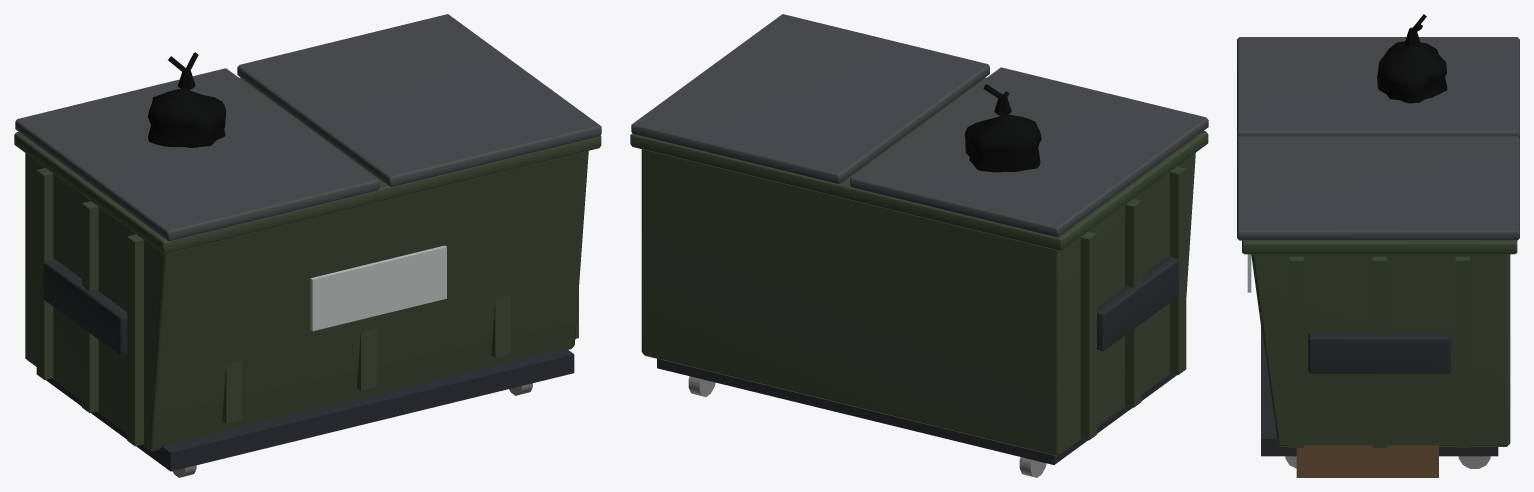
The model's file is St_Dumpster_Green.fbx.
3 views of the same model, side by side, from view 1: azimuth 30°, elevation 25°; view 2: azimuth 150°, elevation 25°; view 3: azimuth 270°, elevation 25° (orthographic). The views are drawn at different scales.
Parts seen in each view (by area): view 1: St_Dumpster_Green_LOD0; view 2: St_Dumpster_Green_LOD0; view 3: St_Dumpster_Green_LOD0.
Part boxes in pixels (x1,y1,x2,y2): St_Dumpster_Green_LOD0: [14, 14, 601, 477]; St_Dumpster_Green_LOD0: [630, 14, 1208, 477]; St_Dumpster_Green_LOD0: [1237, 14, 1519, 477].
Size of what is drawn, in the model's own units: 2.02 by 1.52 by 1.19.
